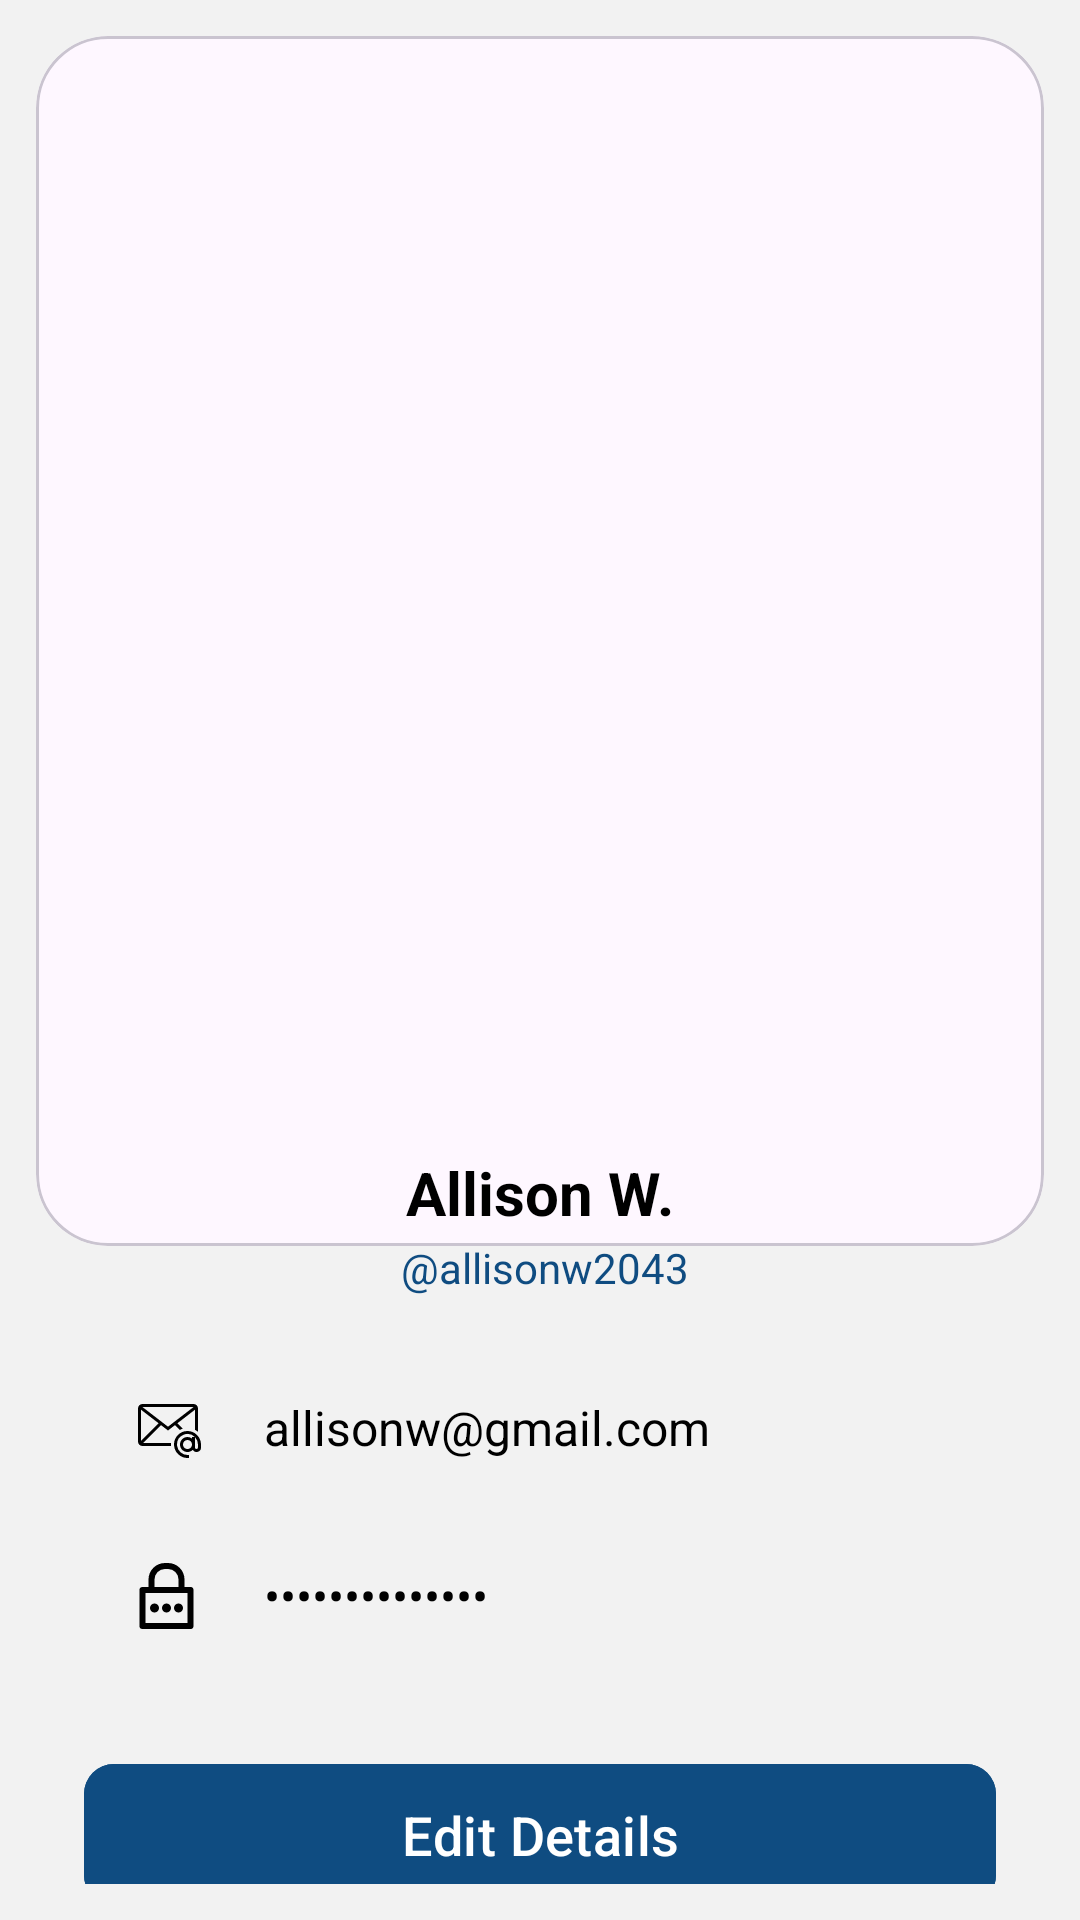

Icons on this 1080*1920 Android screen, each with the point to tap as [x,y]:
password: [166,1596]
updated email: [169,1431]
